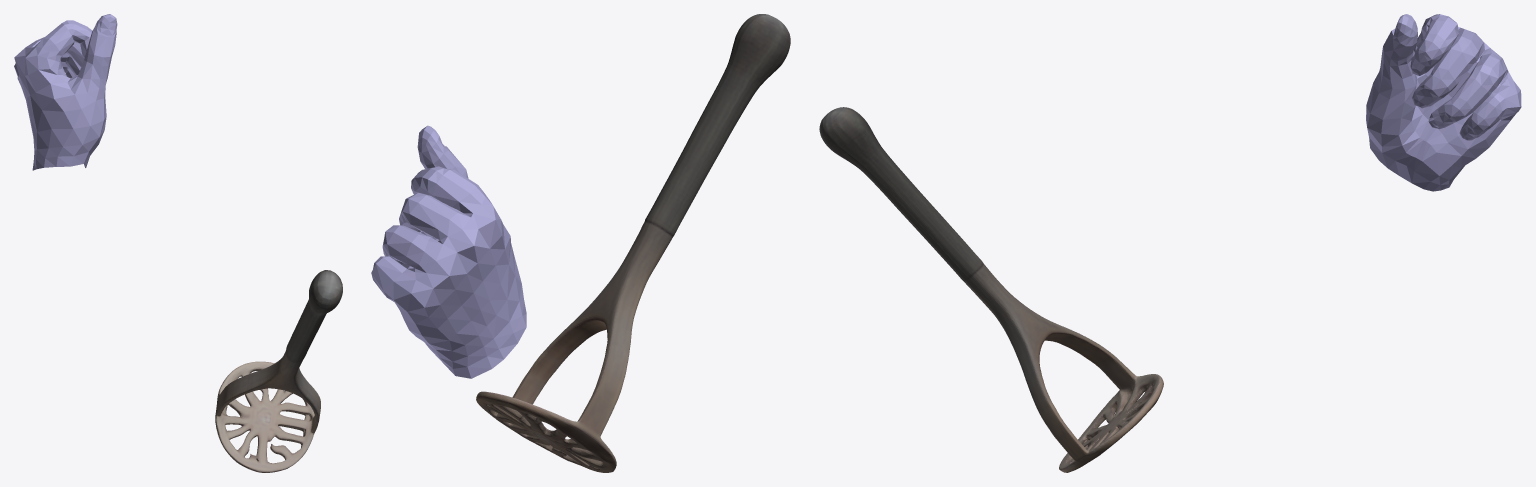
The model's file is frame_0015_source_000015_hand_object.glb.
The picture shows the model from 3 angles, left to right: view 1: azimuth 30°, elevation 25°; view 2: azimuth 150°, elevation 25°; view 3: azimuth 270°, elevation 25°; orthographic projection. The views are drawn at different scales.
Visible parts, largest first — view 1: world; view 2: world; view 3: world.
Boxes of the visible parts, left/top/right/bottom form: world: left=14, top=14, right=342, bottom=472; world: left=371, top=14, right=790, bottom=472; world: left=819, top=14, right=1521, bottom=472.
Bounding box in the file's own units: 0.1227 × 0.2815 × 0.4111.
